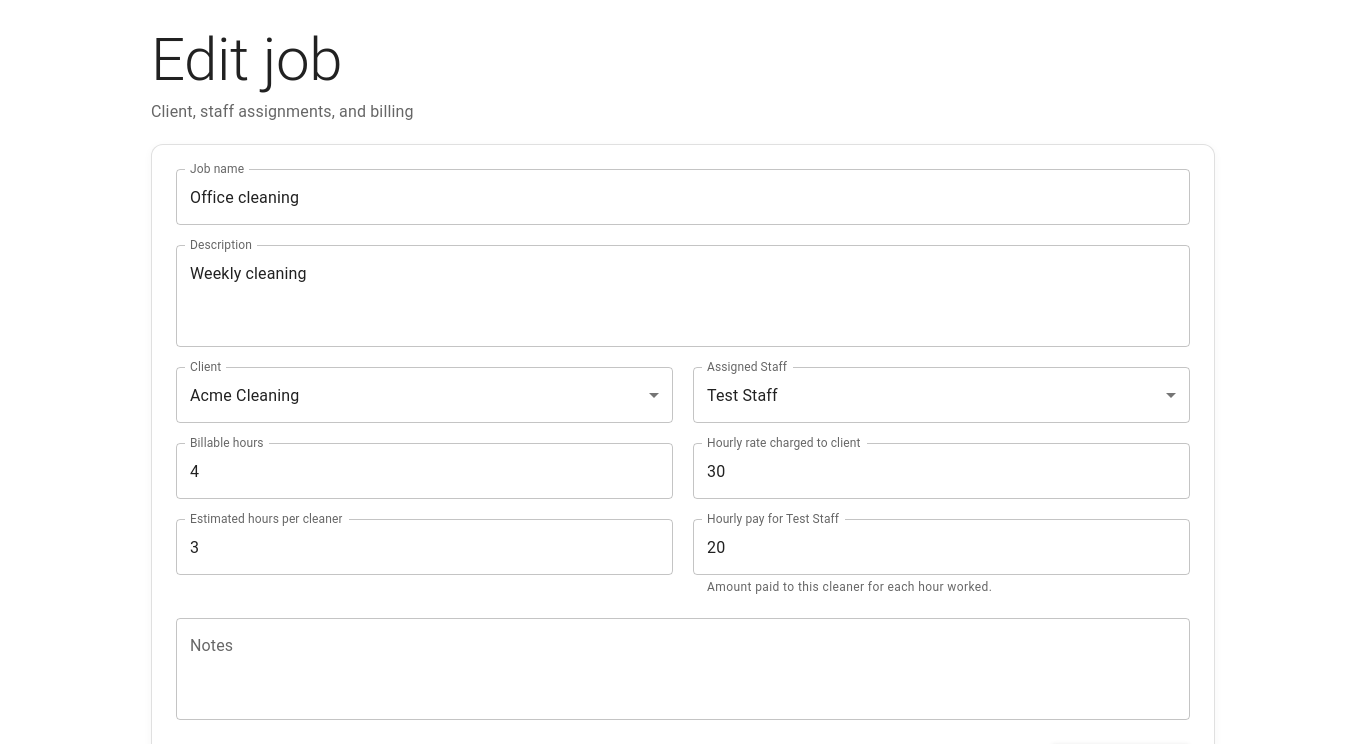
Test: React Hook Form submission boundaries › preserves existing pay on edit and requires a rate for a newly added cleaner
Later steps or results of the test are not shown.
expect the number field labelled "Hourly pay for Test Staff" holds "20": met, box [693,519,1190,575]
Click the dropdown named "Assigned Staff".
click(742, 395)  # box [707,386,778,404]
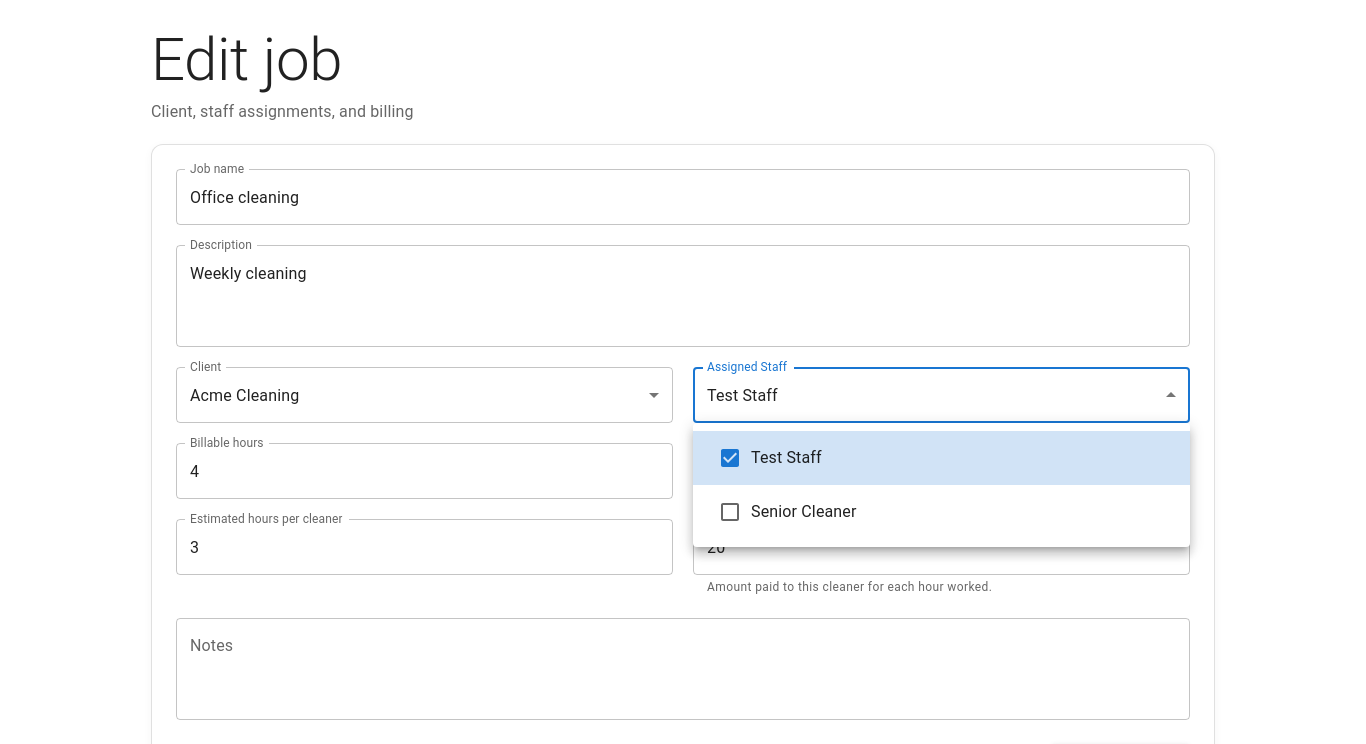
Click the option "Senior Cleaner".
click(787, 512)  # box [718,500,857,524]
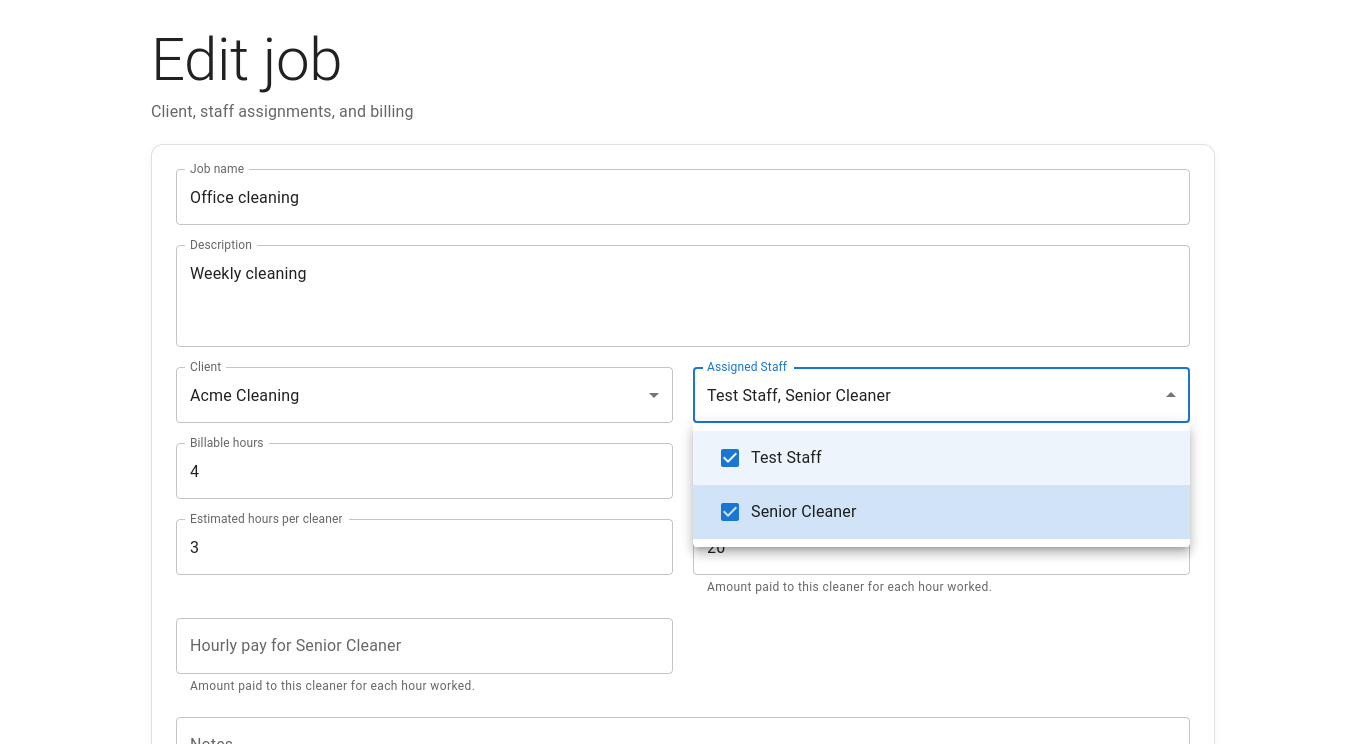
Press Escape in the option "Senior Cleaner", box [693,485,1190,539]
(page scrolled)
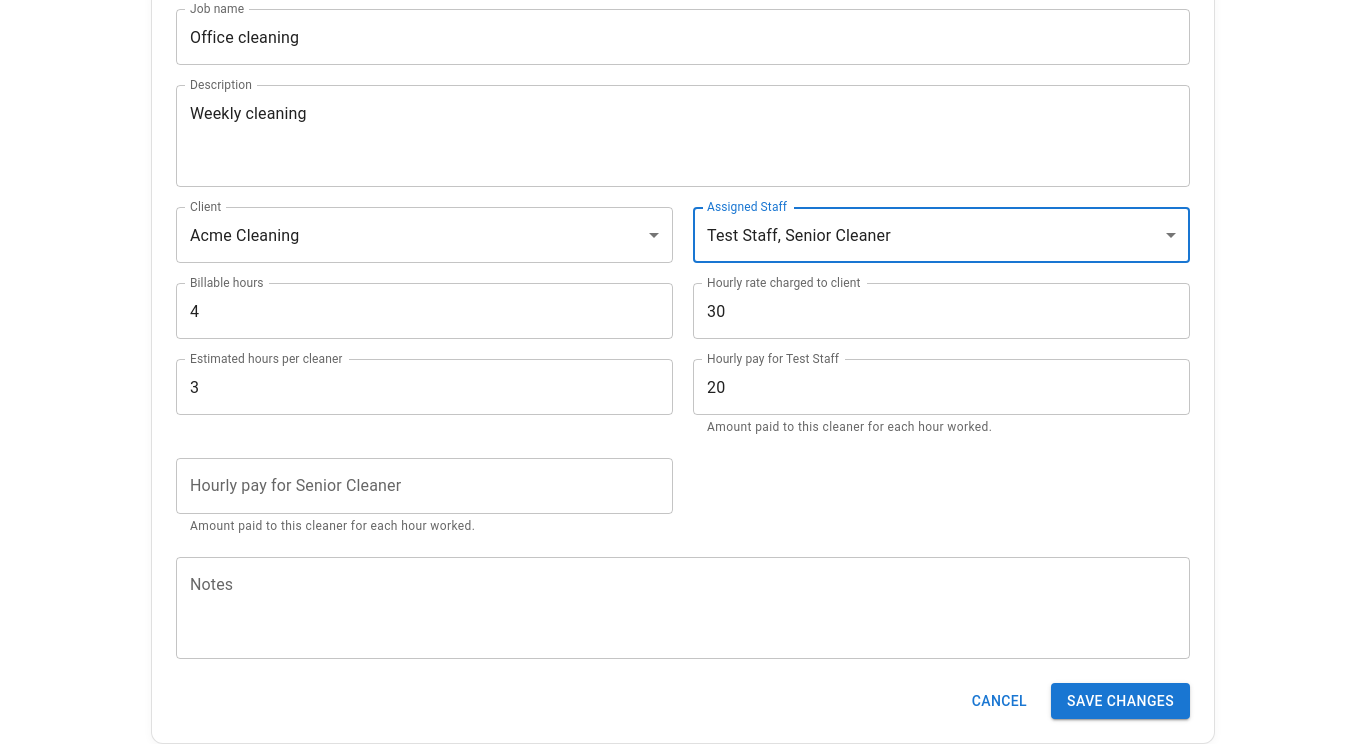
expect the number field labelled "Hourly pay for Senior Cleaner" is not empty: met, box [176,458,673,514]
